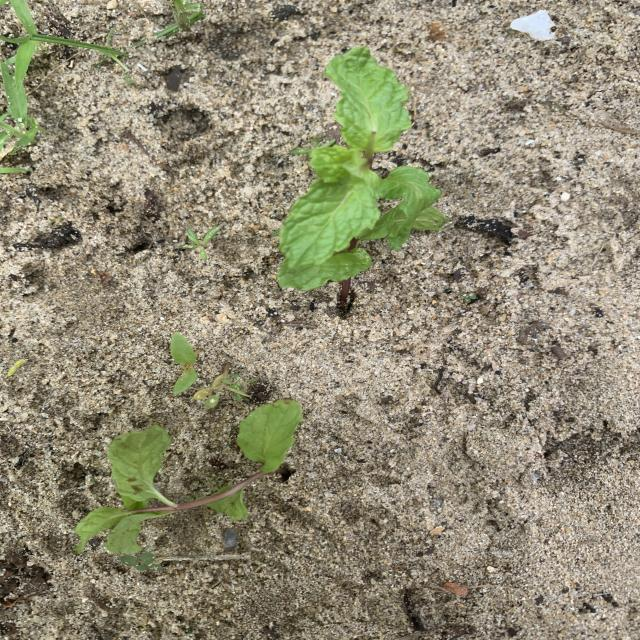crop: (279, 48, 449, 291), (77, 401, 300, 553), (155, 0, 203, 35)
weed: (0, 62, 37, 158), (171, 333, 198, 394), (193, 366, 228, 407), (180, 228, 218, 259), (225, 373, 255, 401), (121, 552, 161, 570), (7, 359, 24, 375), (459, 291, 475, 303)
